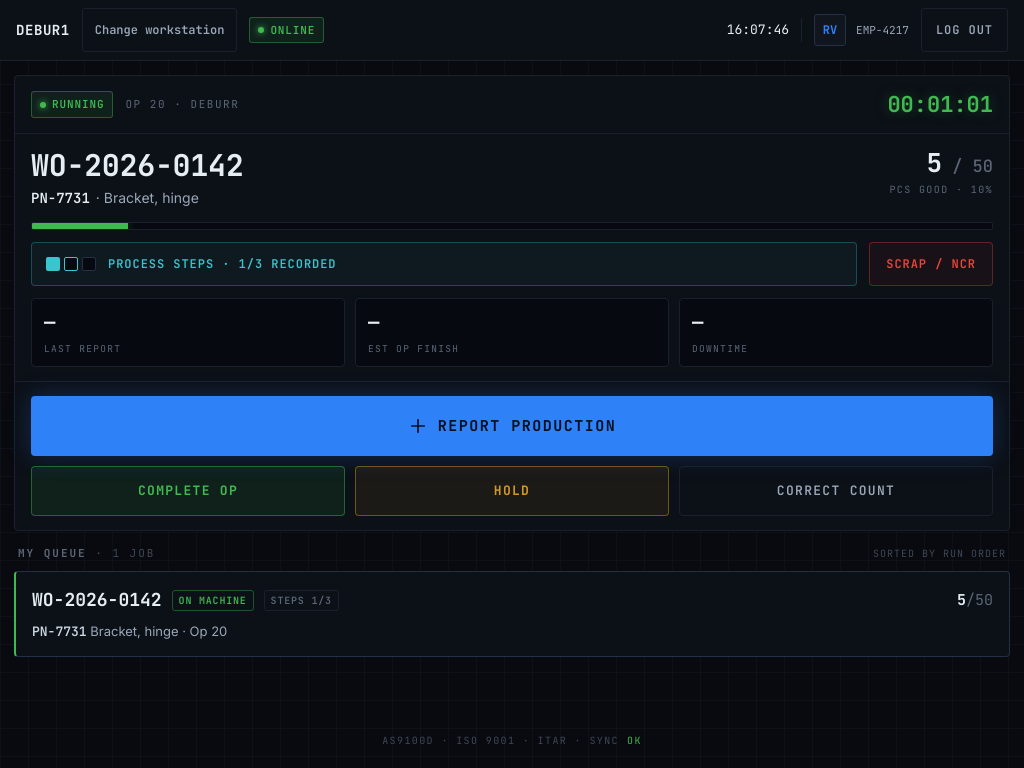
OperatorKiosk process steps › renders the OUT_OF_TOLERANCE refusal with measured vs limits and does NOT refetch (no record was written)
Click the button with test id "kiosk-active-steps": click(173, 264) [31,242,857,286]
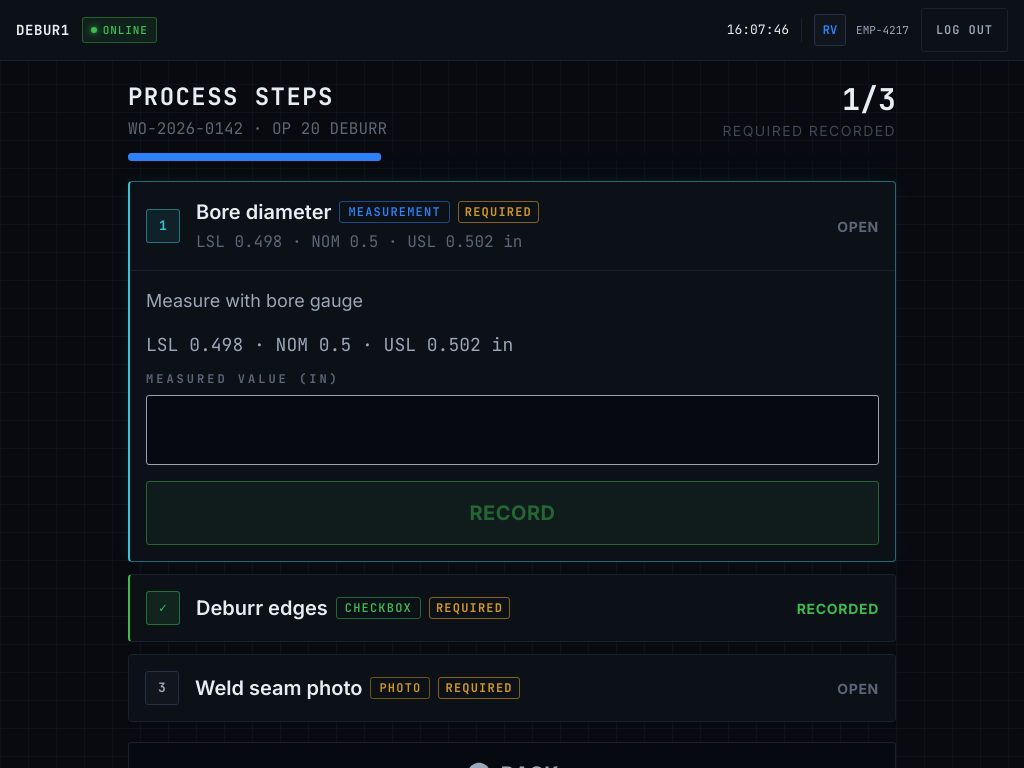
Expected: the text "1/3" is shown, [842,79,896,119]
In the field labelled "Measured value (in)": (512, 430) [146,395,879,465], type "0.6"
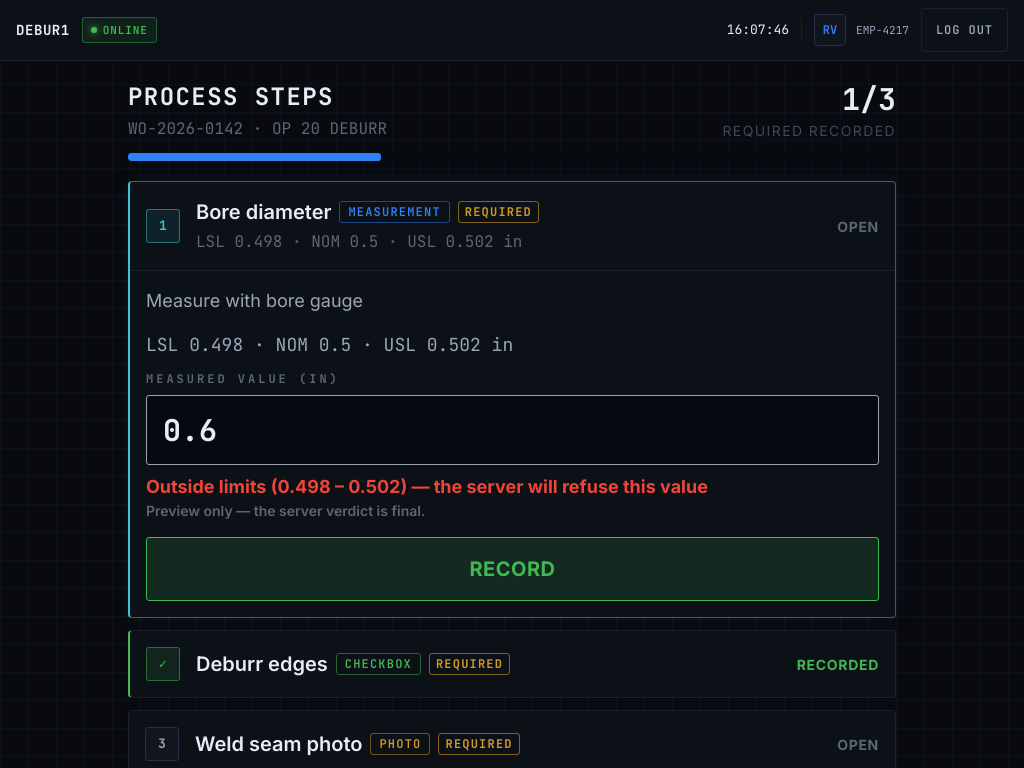
Click the button with test id "kiosk-record-101": click(512, 569) [146,537,879,601]
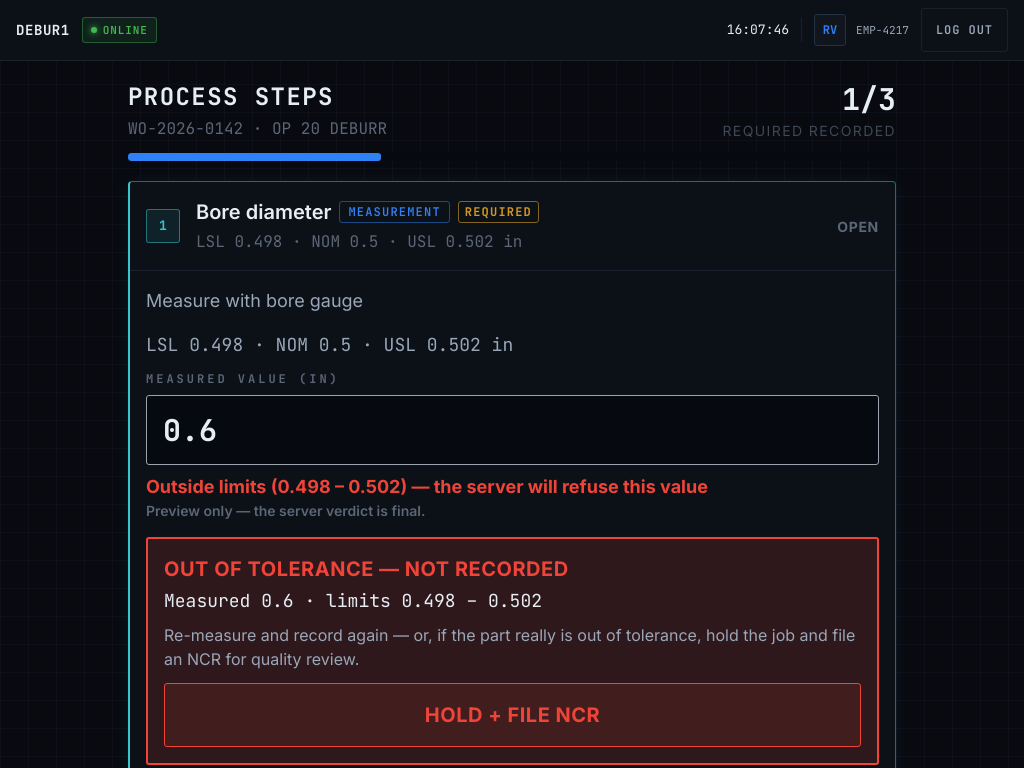
Expected: the message with test id "kiosk-step-oot" shows "Out of tolerance — not recorded", [164,557,569,581]
Expected: the message with test id "kiosk-step-oot" shows "Measured 0.6 · limits 0.498 – 0.502", [146,537,879,765]
Expected: the message with test id "kiosk-step-oot" shows "Re-measure", [164,625,855,669]
